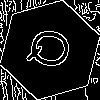Q: (25, 25, 82, 74)
